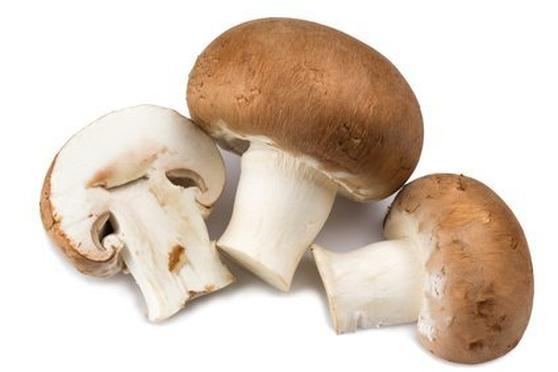champignon: (189, 21, 424, 203), (323, 175, 533, 372)
